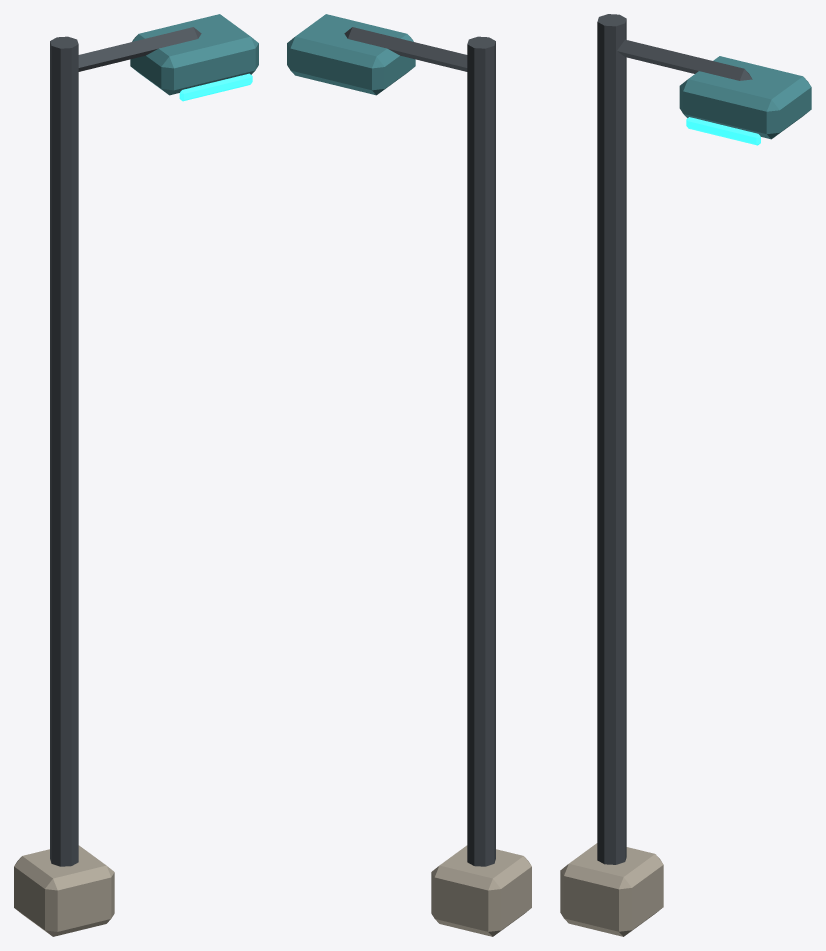
Rendered from dj_street_lamp.glb.
The picture shows the model from 3 angles, left to right: view 1: azimuth 30°, elevation 25°; view 2: azimuth 150°, elevation 25°; view 3: azimuth 330°, elevation 25°; orthographic projection. The views are drawn at different scales.
Parts seen in each view (by area): view 1: Pole, Foot, Lamp_Housing, Arm, Lamp_Lens; view 2: Pole, Foot, Lamp_Housing, Arm; view 3: Pole, Foot, Lamp_Housing, Arm, Lamp_Lens.
Boxes of the visible parts, x1=… form: Pole: x1=50, y1=36, x2=78, y2=866; Foot: x1=14, y1=845, x2=114, y2=936; Lamp_Housing: x1=130, y1=14, x2=258, y2=95; Arm: x1=78, y1=27, x2=201, y2=71; Lamp_Lens: x1=179, y1=73, x2=252, y2=101; Pole: x1=467, y1=36, x2=495, y2=866; Foot: x1=431, y1=845, x2=531, y2=936; Lamp_Housing: x1=287, y1=14, x2=415, y2=95; Arm: x1=344, y1=27, x2=467, y2=71; Pole: x1=597, y1=14, x2=626, y2=864; Foot: x1=560, y1=843, x2=663, y2=936; Lamp_Housing: x1=679, y1=56, x2=811, y2=139; Arm: x1=617, y1=39, x2=752, y2=80; Lamp_Lens: x1=686, y1=117, x2=760, y2=145.
Bounding box in the file's own units: 0.92 × 3.6 × 0.3225.
